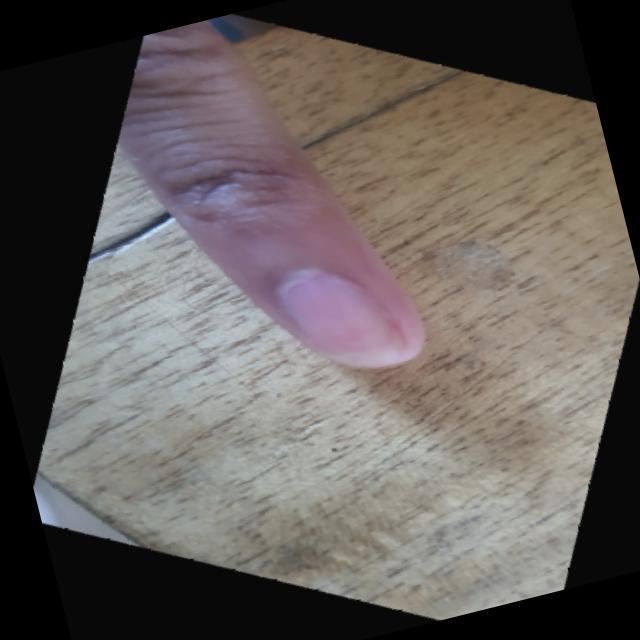Nail: (279, 274, 400, 367)
